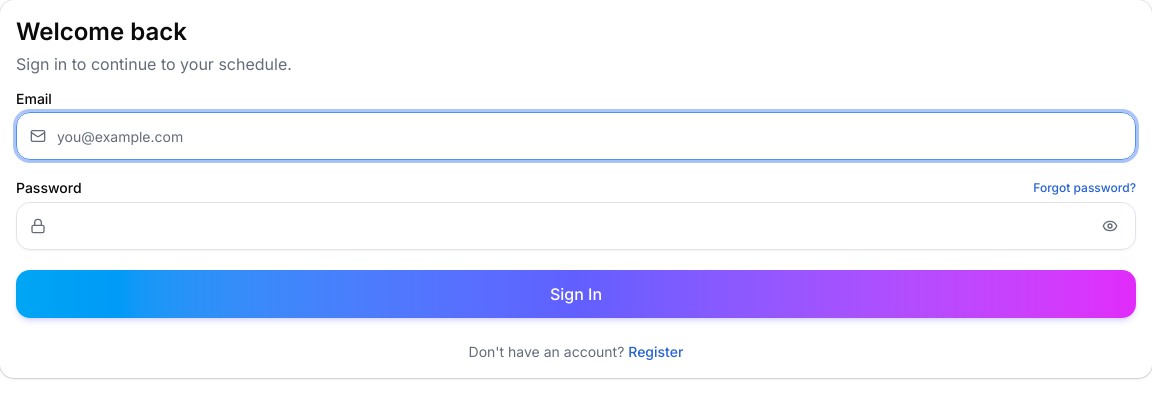
Test: LoginForm › shows an inline password error on invalid credentials instead of a generic toast
Type "jane@example.com" into the field labelled "Email".
click(576, 136); type("jane@example.com")  # box left=16, top=112, right=1136, bottom=160
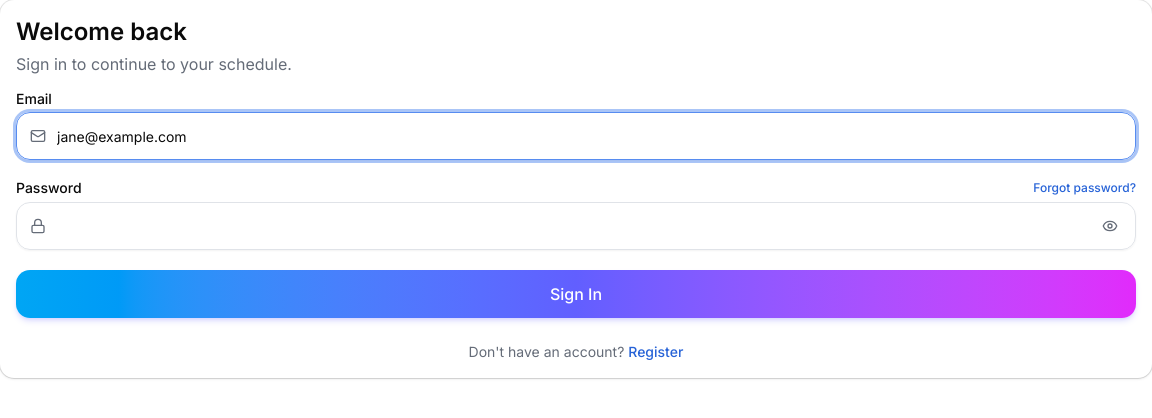
Type "wrong-password" into the password field labelled "Password".
click(576, 226); type("wrong-password")  # box left=16, top=202, right=1136, bottom=250
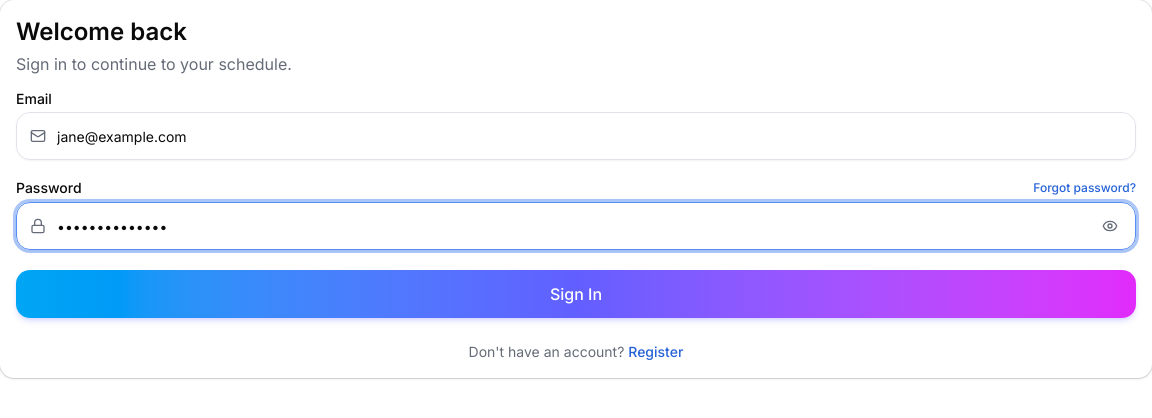
Click the button "Sign In".
click(576, 294)  # box left=16, top=270, right=1136, bottom=318
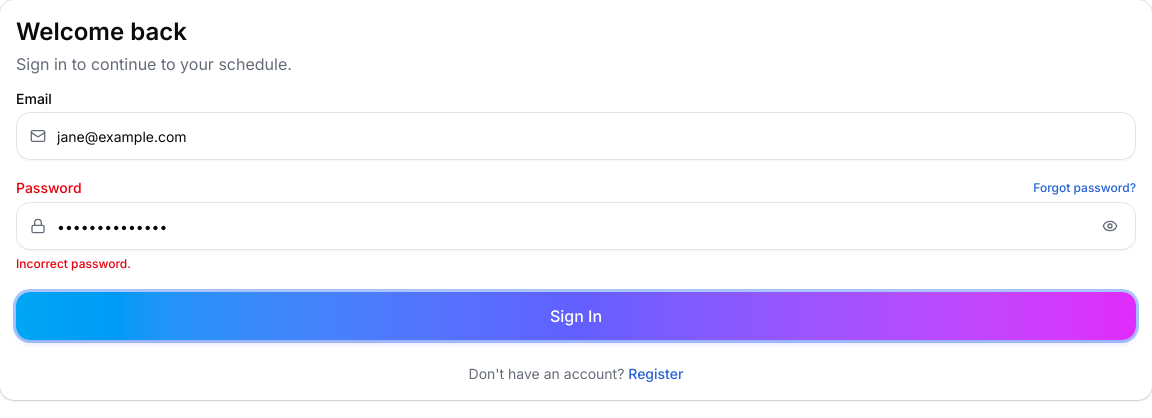
Check: the text "Incorrect password." is shown, box left=16, top=256, right=131, bottom=271
